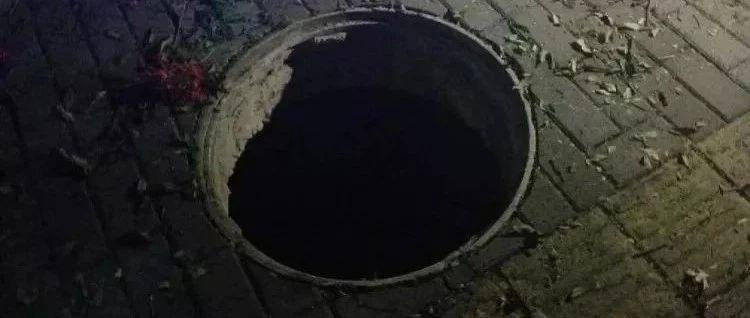wellcover: (169, 8, 544, 288)
